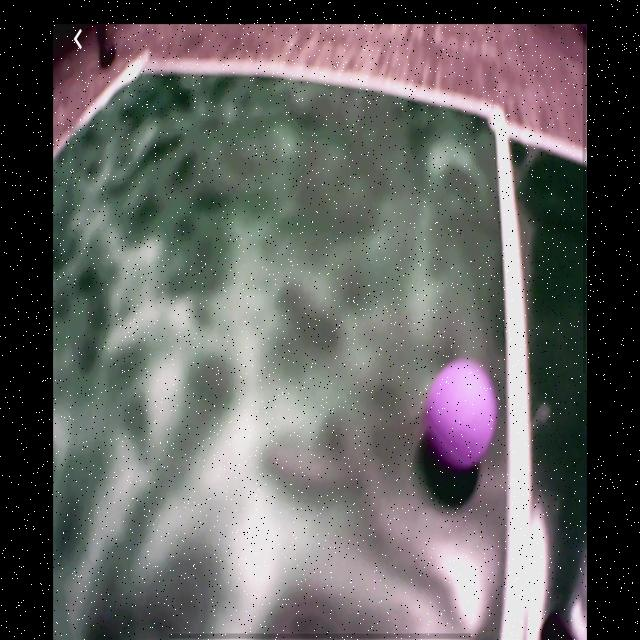ball: (425, 360, 499, 472)
